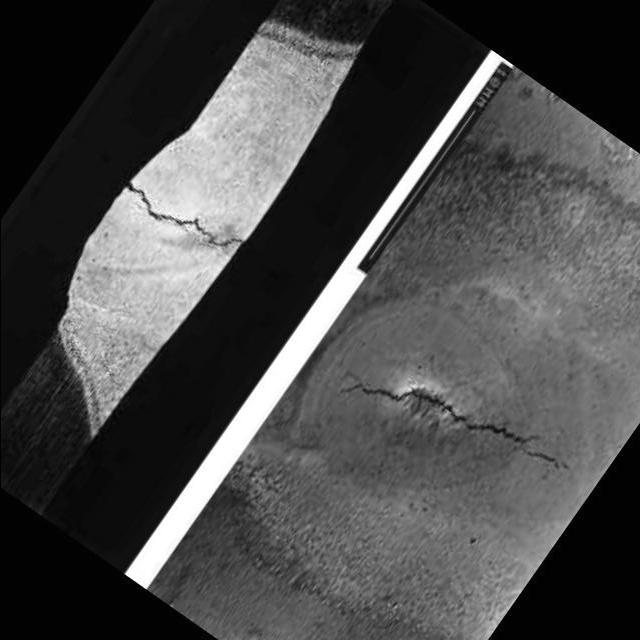defect: (329, 376, 565, 475), (122, 176, 247, 251)
